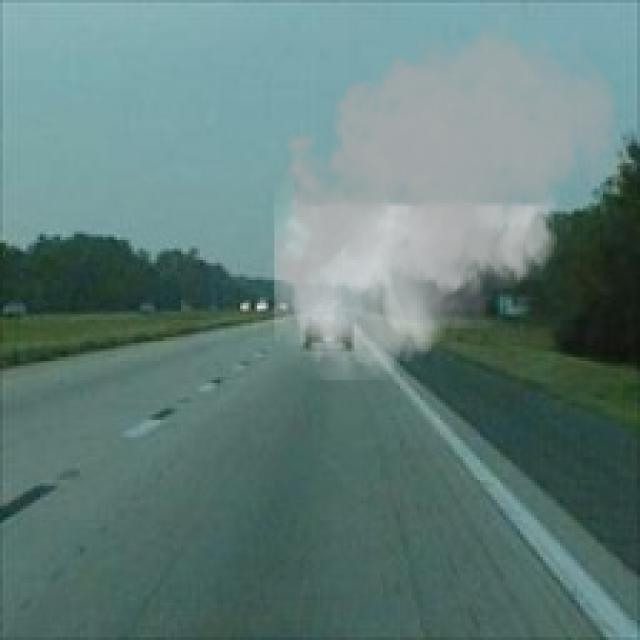smoke: (260, 9, 626, 380)
